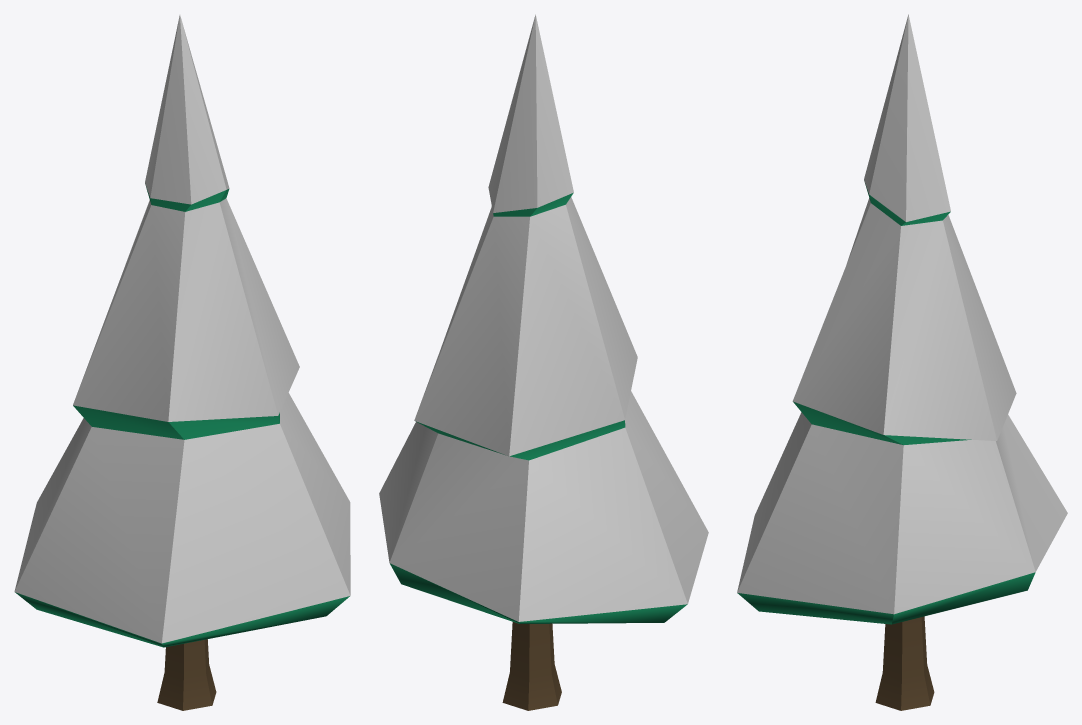
File: snowy_spruce.obj
3 views of the same model, side by side, from view 1: azimuth 30°, elevation 25°; view 2: azimuth 150°, elevation 25°; view 3: azimuth 270°, elevation 25° (orthographic).
Size of the model in its own units: 3.97 by 8.05 by 3.55.
